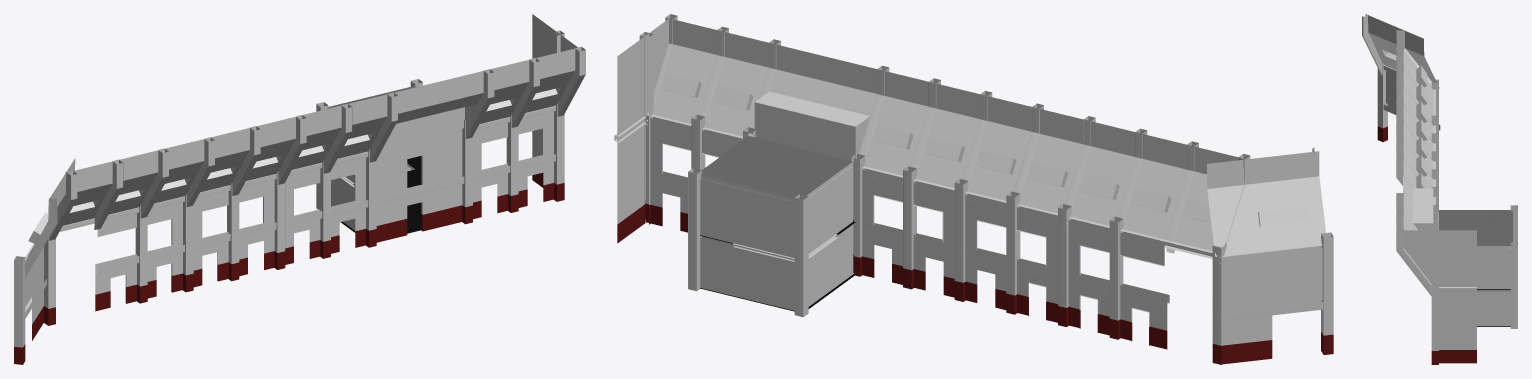
File: SM_H_Building_Tide_Jail_A_04_ATLAS.fbx
3 views of the same model, side by side, from view 1: azimuth 30°, elevation 25°; view 2: azimuth 150°, elevation 25°; view 3: azimuth 270°, elevation 25° (orthographic). The views are drawn at different scales.
Parts seen in each view (by area): view 1: SM_H_Building_Tide_Jail_A_04_ATLAS; view 2: SM_H_Building_Tide_Jail_A_04_ATLAS; view 3: SM_H_Building_Tide_Jail_A_04_ATLAS.
Part boxes in pixels (x1=…): SM_H_Building_Tide_Jail_A_04_ATLAS: x1=14, y1=14, x2=585, y2=364; SM_H_Building_Tide_Jail_A_04_ATLAS: x1=614, y1=14, x2=1333, y2=364; SM_H_Building_Tide_Jail_A_04_ATLAS: x1=1362, y1=14, x2=1517, y2=364.
Size of the model in its own units: 6902 by 2002 by 1888.
